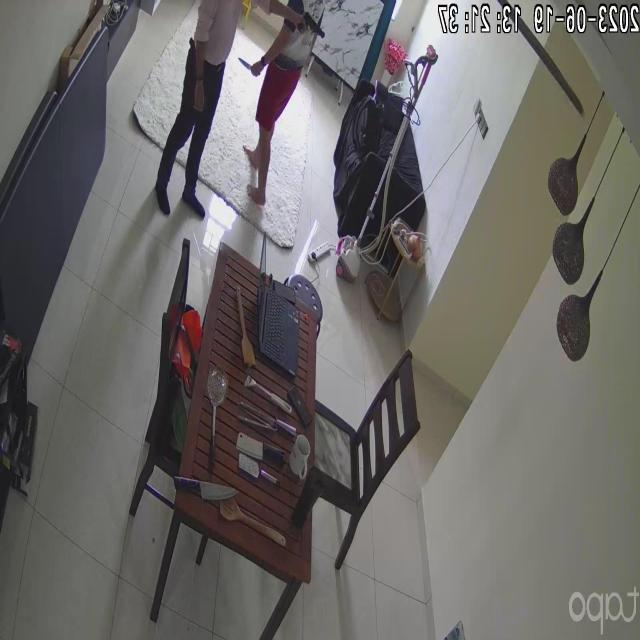Gun: (290, 10, 328, 45)
Knife: (166, 470, 245, 507), (233, 50, 266, 85)
